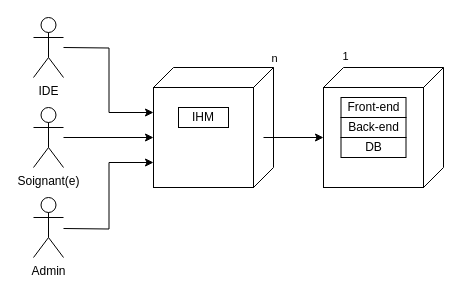
This 462x296 diagram has some shape labels left out. Each missing label, with the box of its shape:
PC: (152, 86, 254, 188)
VM Azure: (322, 86, 424, 188)
